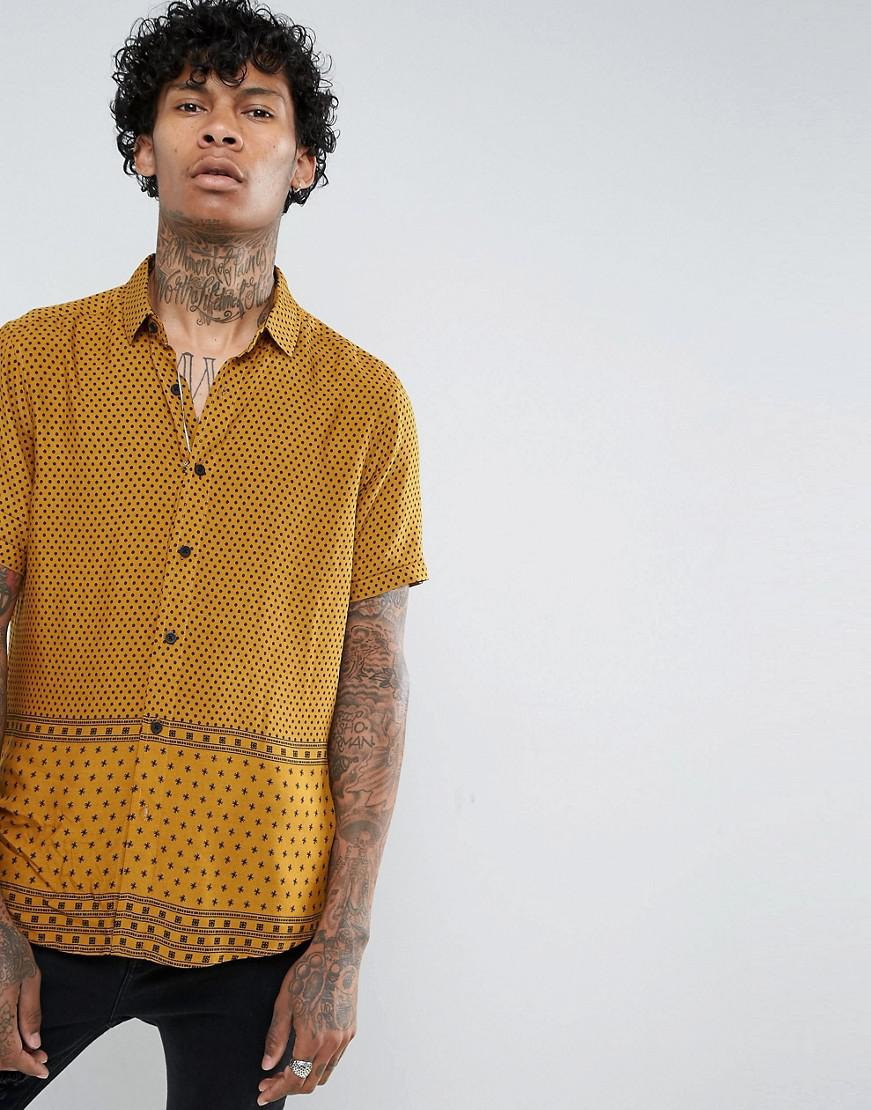teeshirt: (1, 252, 429, 1000)
